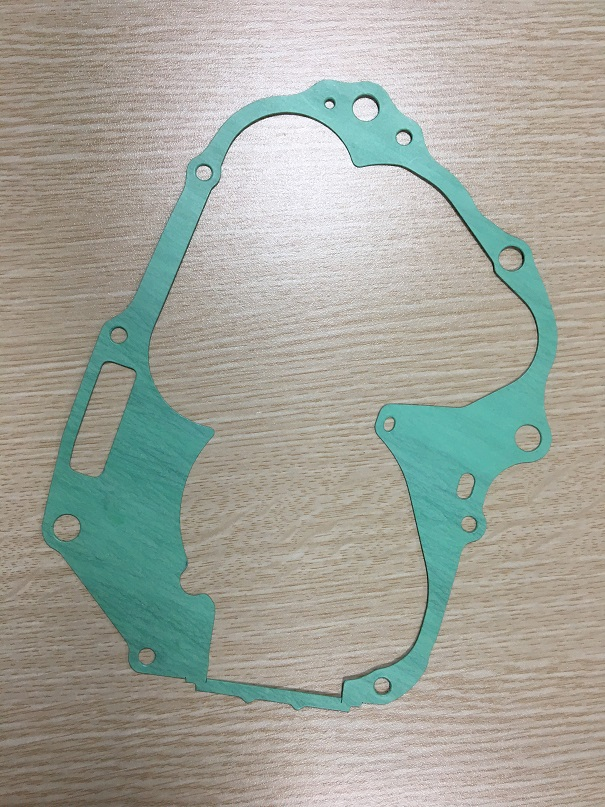type3: (31, 70, 566, 715)
